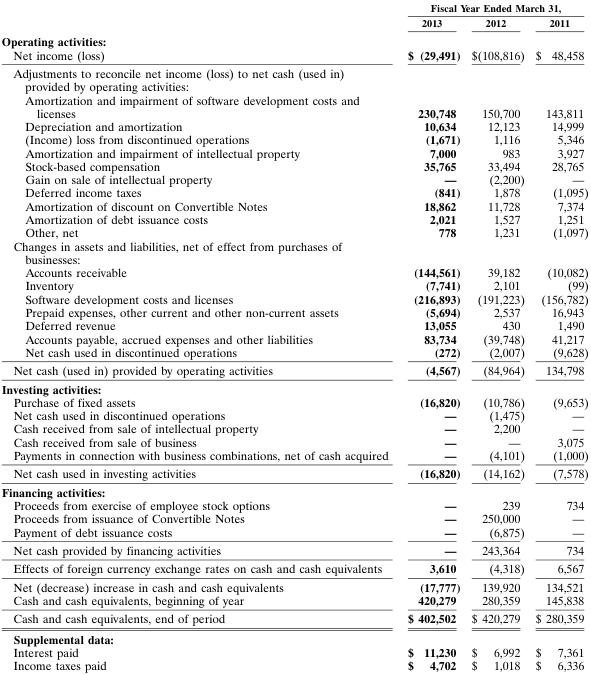table: (0, 0, 587, 672)
table column: (0, 0, 397, 672), (397, 0, 465, 672), (465, 0, 529, 672), (529, 0, 587, 672)
table column header: (0, 0, 587, 31)
table projected row header: (0, 63, 587, 92), (0, 238, 587, 265), (0, 628, 587, 645), (0, 31, 587, 47), (0, 482, 587, 498), (0, 379, 587, 394)
table row: (0, 63, 587, 92), (0, 92, 587, 119), (0, 238, 587, 265), (0, 360, 587, 379), (0, 540, 587, 559), (0, 609, 587, 628), (0, 464, 587, 482), (0, 559, 587, 577), (0, 14, 587, 31), (0, 628, 587, 645), (0, 31, 587, 47), (0, 47, 587, 63), (0, 448, 587, 464), (0, 482, 587, 498), (0, 524, 587, 540), (0, 577, 587, 593), (0, 593, 587, 609), (0, 345, 587, 360), (0, 379, 587, 394), (0, 0, 587, 14), (0, 145, 587, 159), (0, 198, 587, 212), (0, 291, 587, 305), (0, 331, 587, 345), (0, 394, 587, 408), (0, 434, 587, 448), (0, 658, 587, 672), (0, 119, 587, 132), (0, 132, 587, 145), (0, 159, 587, 172), (0, 172, 587, 185), (0, 185, 587, 198), (0, 212, 587, 225), (0, 225, 587, 238), (0, 265, 587, 278), (0, 278, 587, 291), (0, 305, 587, 318), (0, 318, 587, 331), (0, 408, 587, 421), (0, 421, 587, 434), (0, 498, 587, 511), (0, 511, 587, 524), (0, 645, 587, 658)
table spanning cell: (397, 0, 587, 14)
